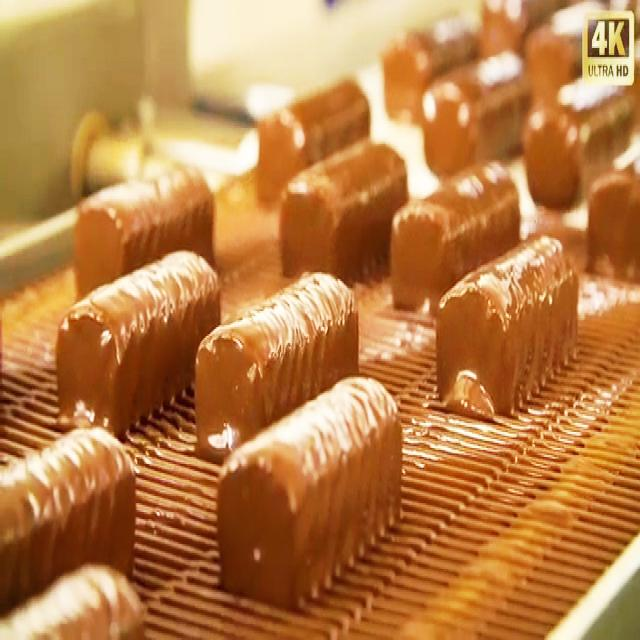Choco: (215, 370, 403, 606), (193, 266, 360, 458), (54, 245, 221, 436), (433, 228, 580, 420), (72, 158, 215, 294), (10, 422, 146, 563), (277, 135, 409, 276), (391, 170, 512, 293), (259, 75, 367, 191), (418, 69, 536, 171), (381, 22, 482, 124), (530, 80, 611, 205)
